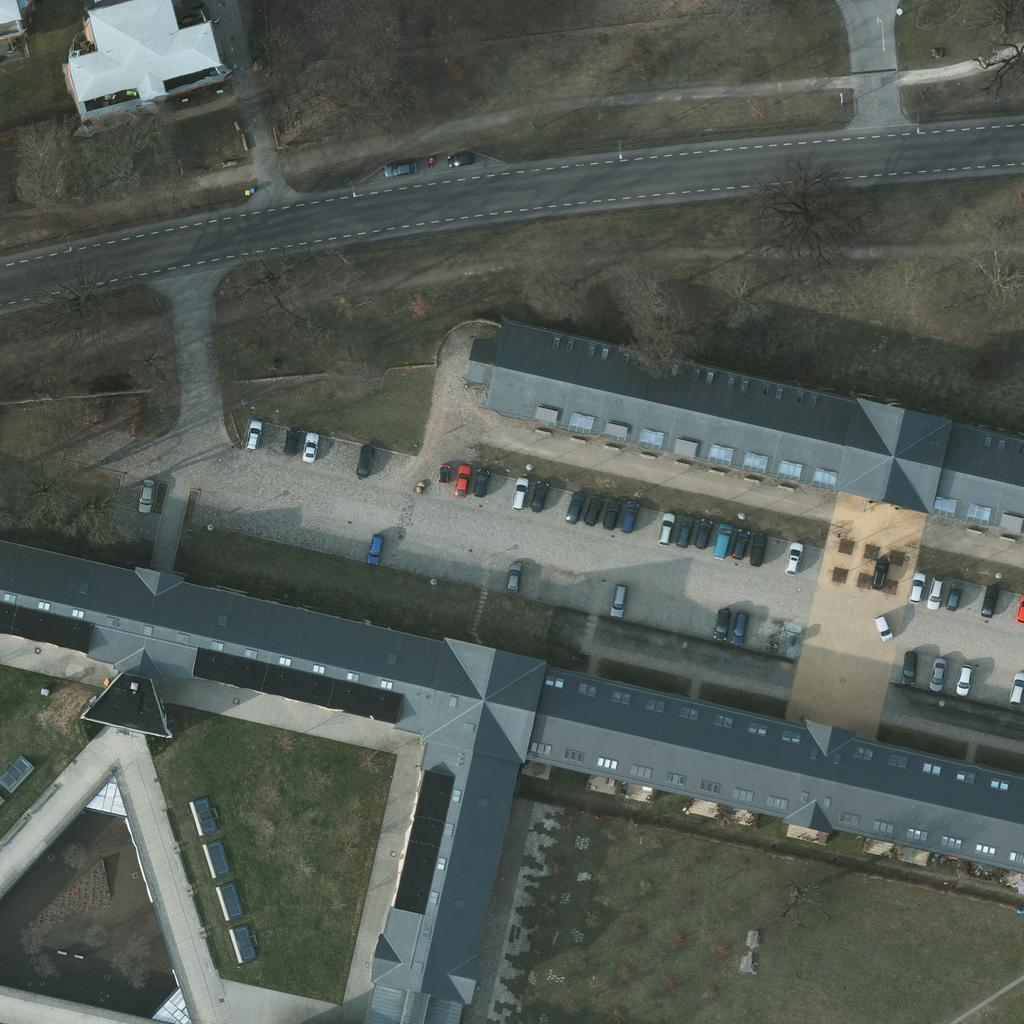car: (443, 141, 477, 175), (382, 152, 416, 186), (236, 418, 270, 452), (274, 423, 308, 457), (292, 432, 326, 466), (347, 442, 381, 476), (426, 454, 460, 488), (444, 464, 478, 498), (463, 464, 497, 498), (522, 476, 556, 510), (128, 477, 162, 511), (502, 477, 536, 511), (558, 489, 592, 523), (576, 492, 610, 526), (594, 496, 628, 530), (613, 498, 647, 532), (648, 509, 682, 543), (668, 513, 702, 547), (684, 516, 718, 550), (705, 519, 739, 553), (722, 527, 756, 561), (357, 531, 391, 565), (740, 531, 774, 565), (775, 542, 809, 576), (862, 555, 896, 589), (495, 560, 529, 594), (898, 572, 932, 606), (917, 575, 951, 609), (936, 578, 970, 612), (600, 582, 634, 616), (970, 584, 1004, 618), (705, 605, 739, 639), (722, 609, 756, 643), (866, 609, 900, 643), (892, 646, 926, 680), (920, 656, 954, 690), (946, 660, 980, 694), (1000, 671, 1024, 705), (1005, 591, 1024, 625)
